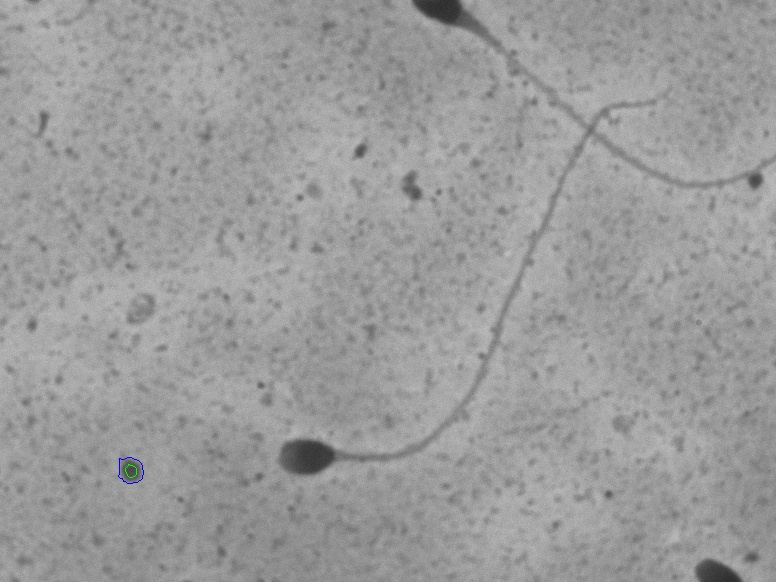Normal: (262, 68, 682, 490)
